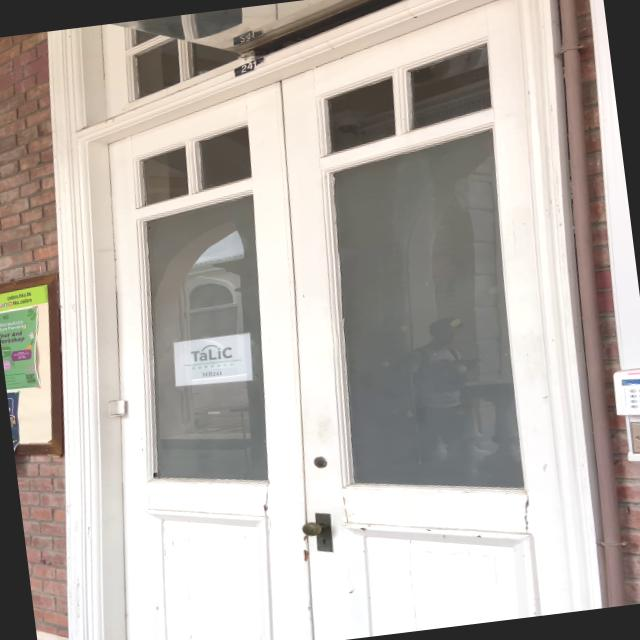room241: (228, 54, 268, 78)
